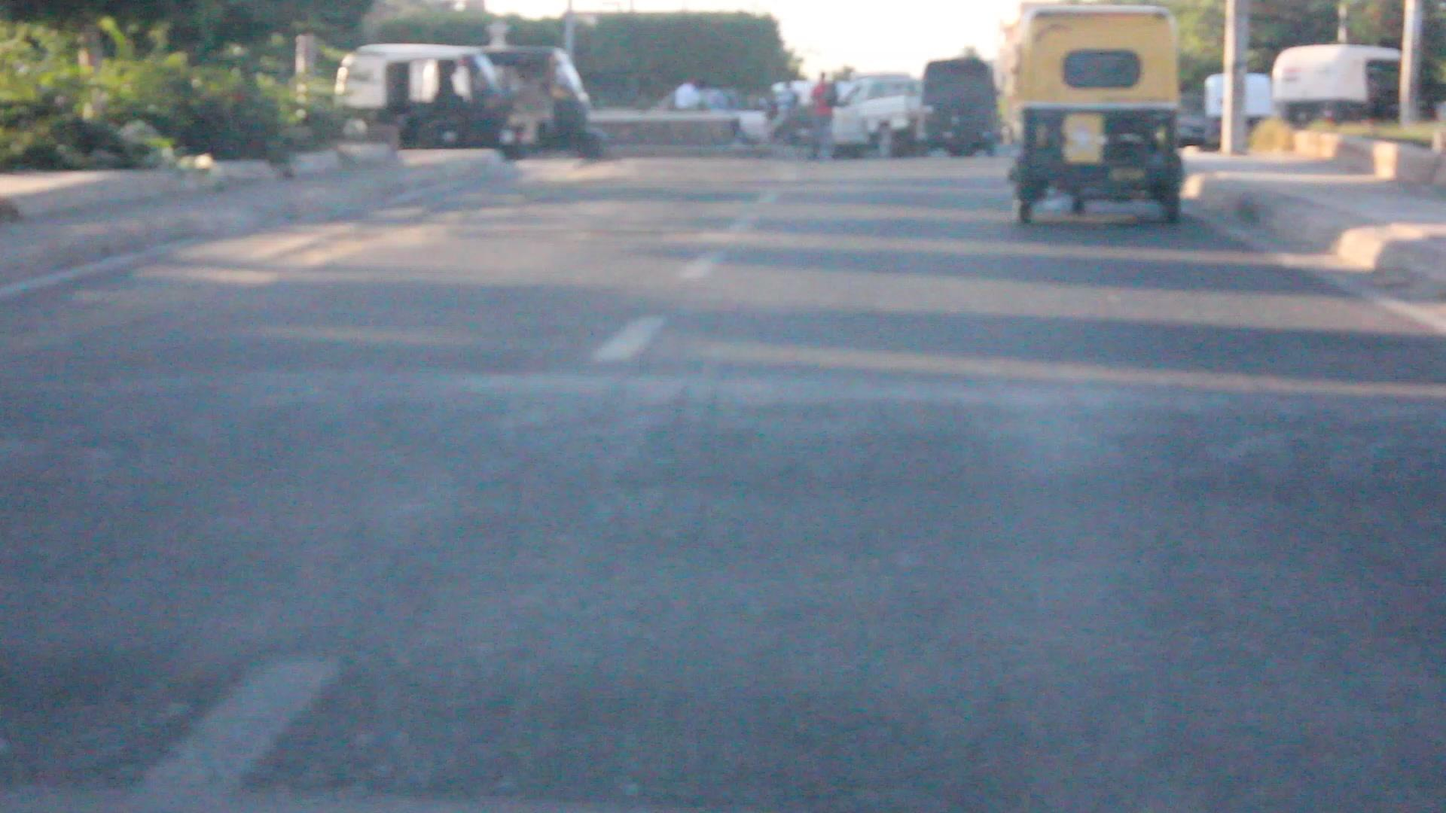Bump: (6, 386, 1446, 568)
